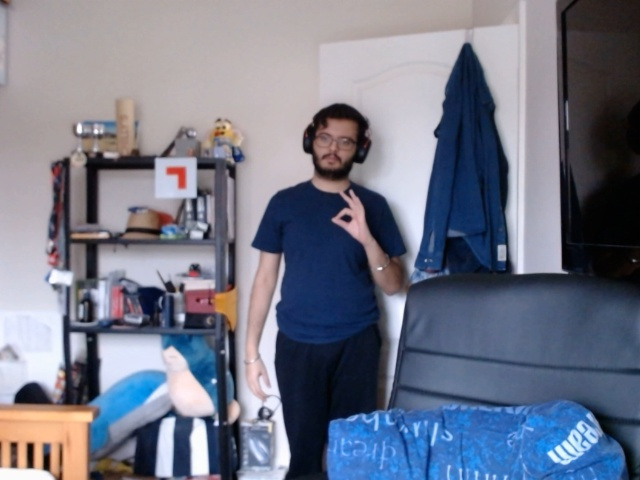Okay: (327, 187, 371, 242)
